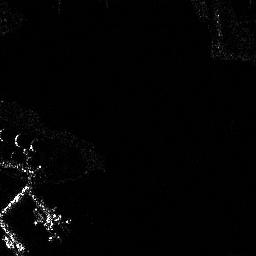ship: (32, 209, 59, 240), (2, 234, 20, 256)
